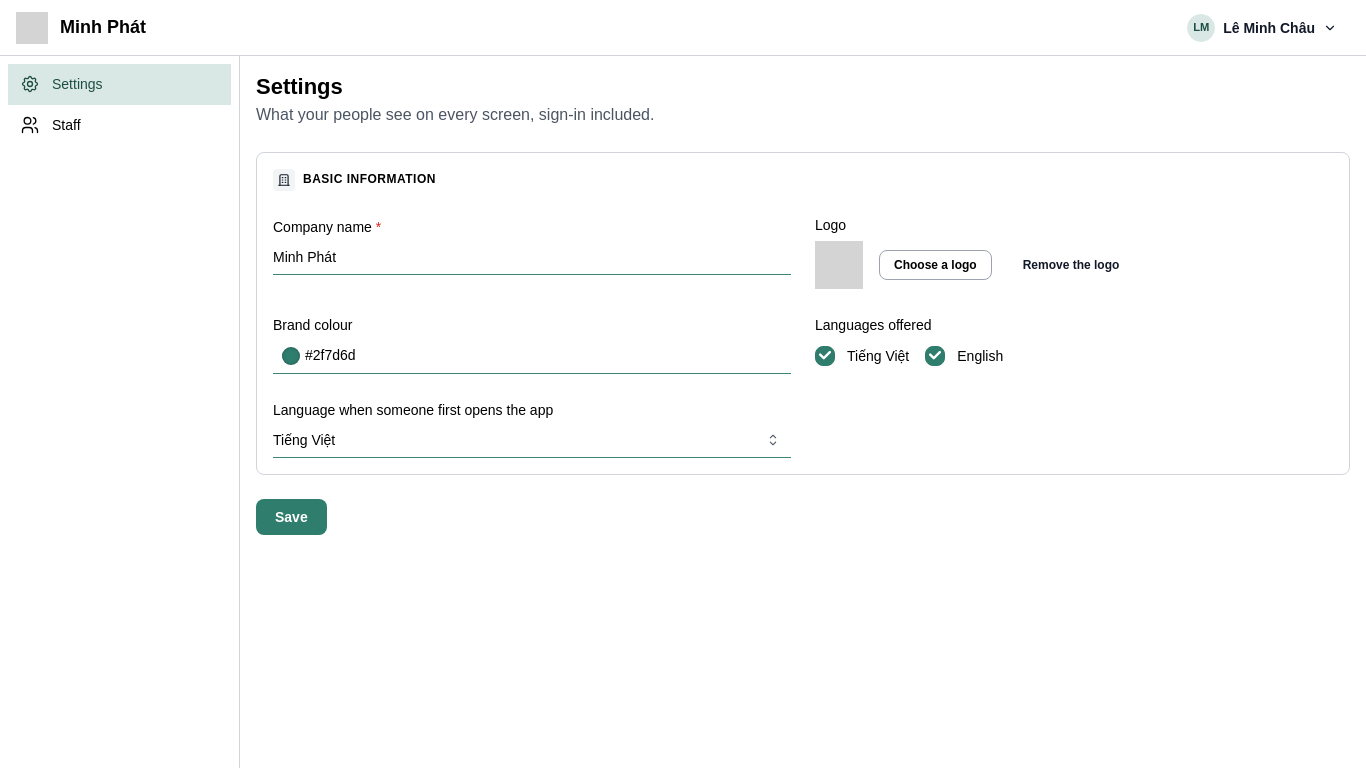
a 403 or a 401 on a page › A 403 on the settings save reads `me` again, and a person who may no longer change them is shown the page that says so
Type "x" into the field labelled "Company name *" at coordinates (532, 257), box 273,239 -> 791,275
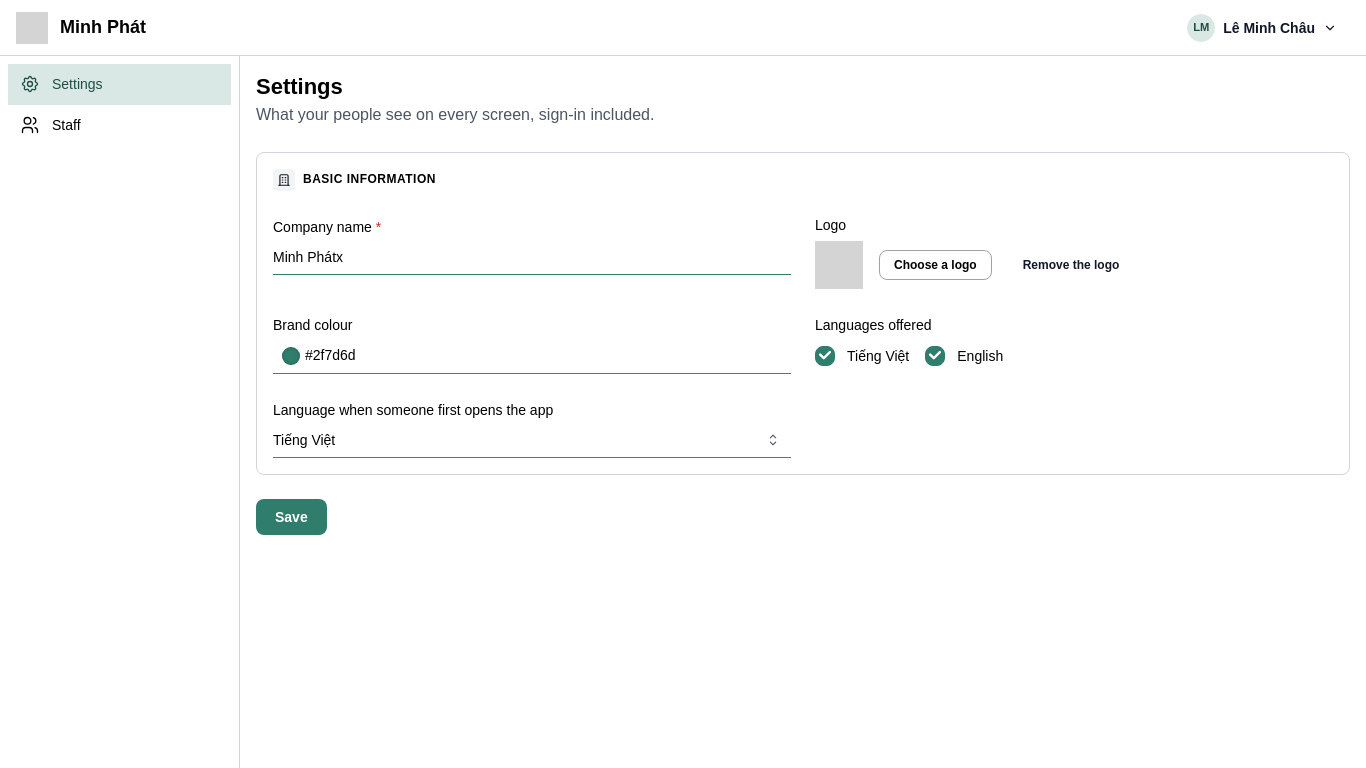
Click the button "Save" at coordinates (291, 518), box 256,500 -> 327,536
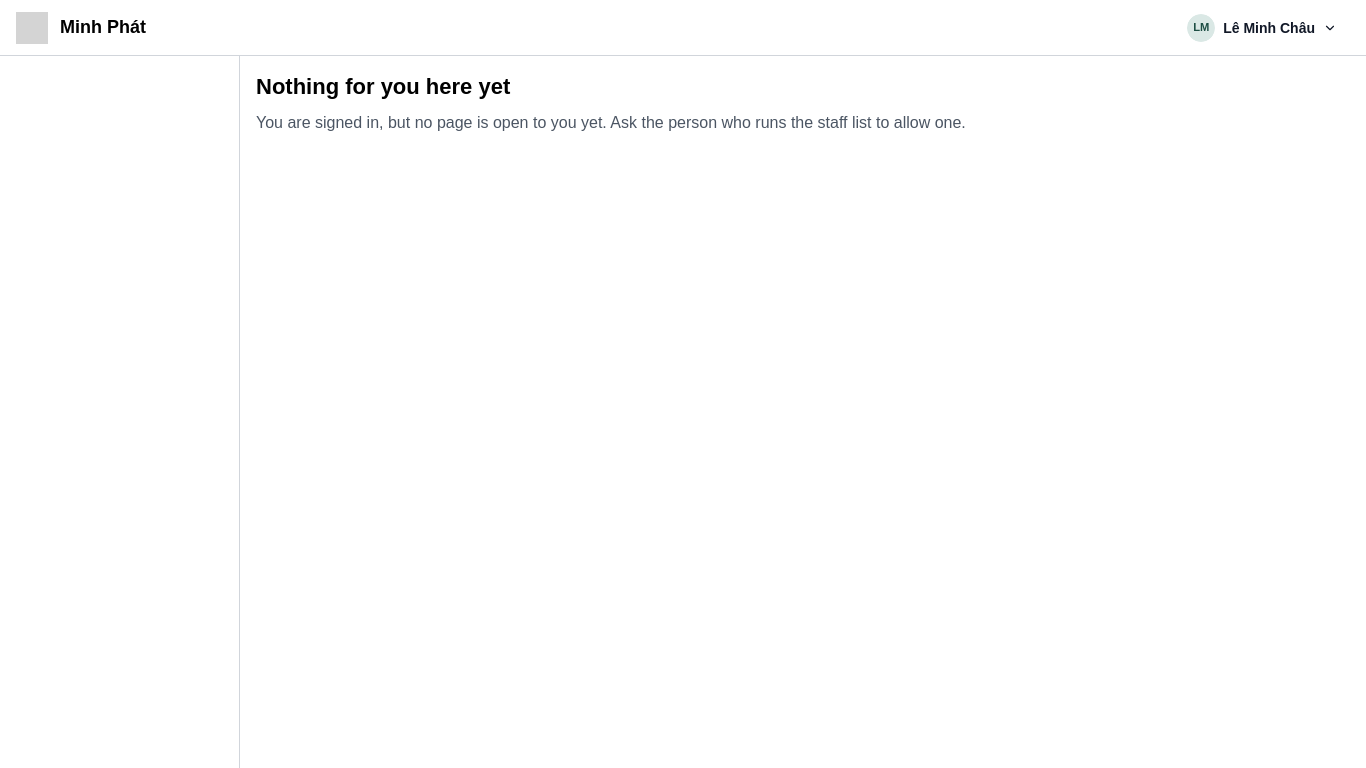
Check: the heading "Nothing for you here yet" is shown, box 256,74 -> 510,99
